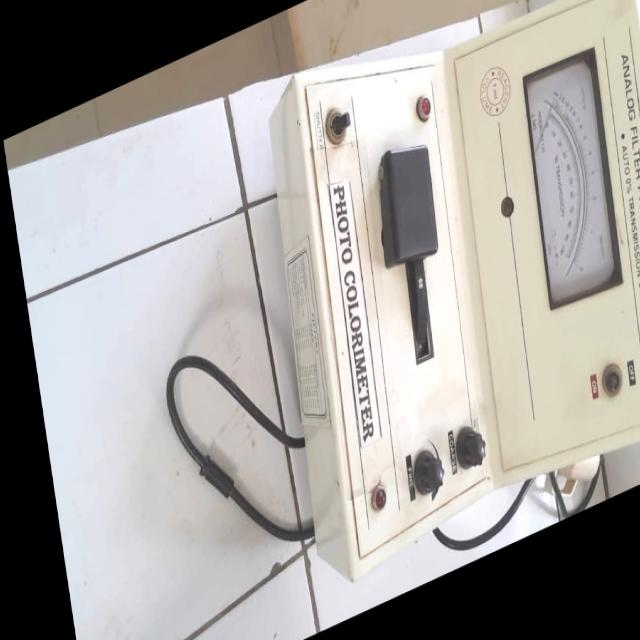Photocolorimeter: (270, 0, 640, 583)
